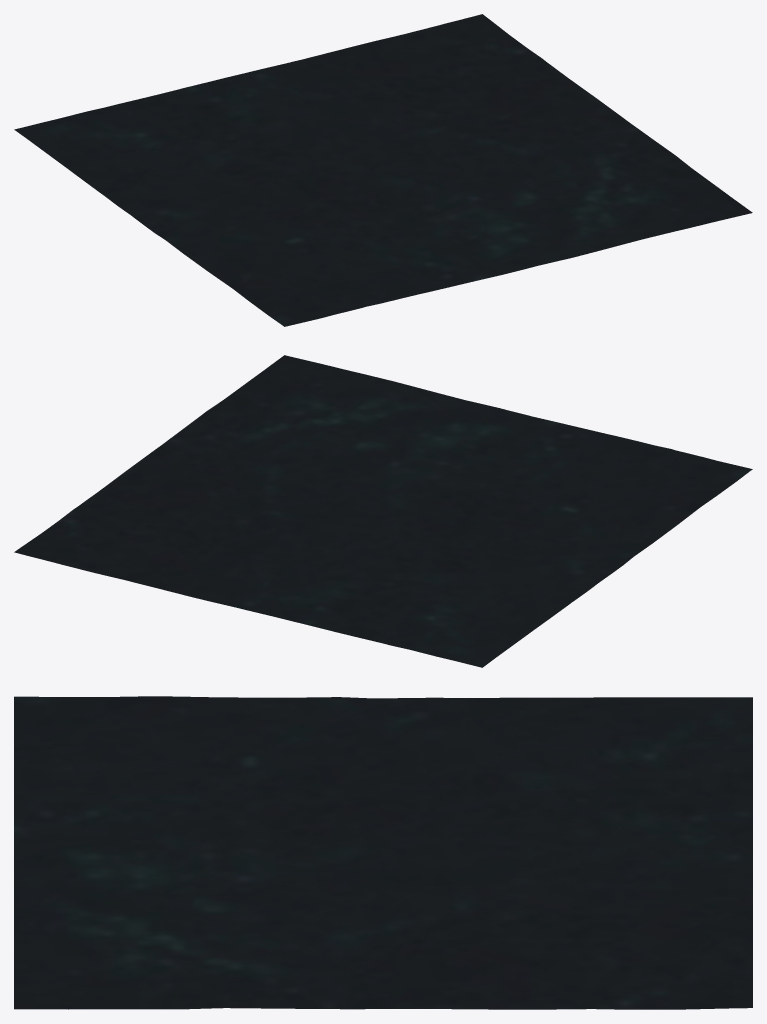
3 renders of one model, top to bottom at view 1: azimuth 30°, elevation 25°; view 2: azimuth 150°, elevation 25°; view 3: azimuth 270°, elevation 25°, orthographic. The views are drawn at different scales.
Size of the model in its own units: 52.22 by 0.3107 by 52.22.
3 materials, 3 textured.
